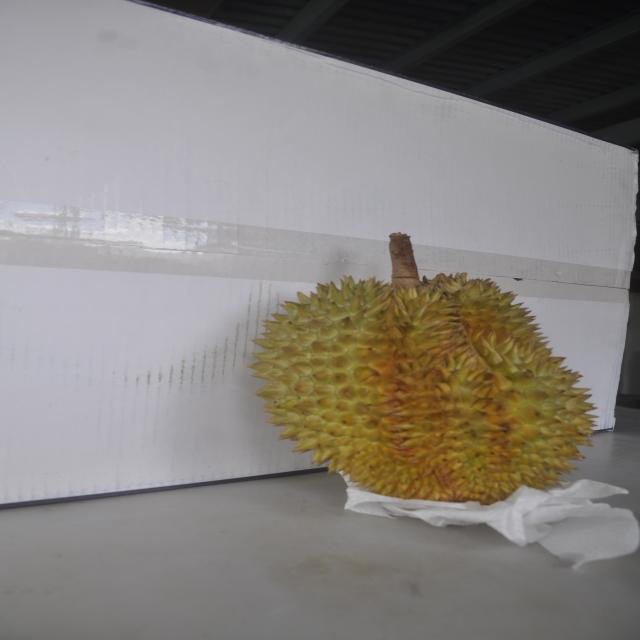mature: (246, 260, 602, 503)
